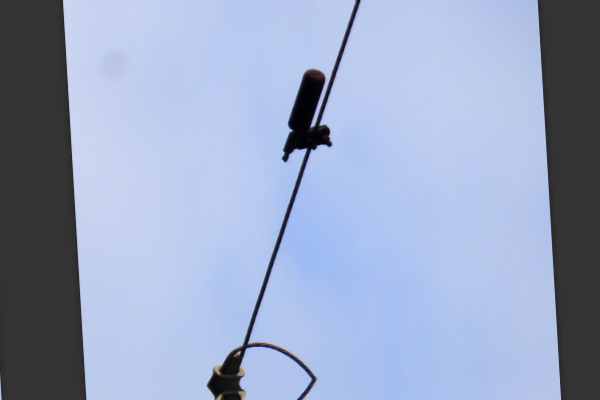damper_defect: (277, 68, 338, 166)
